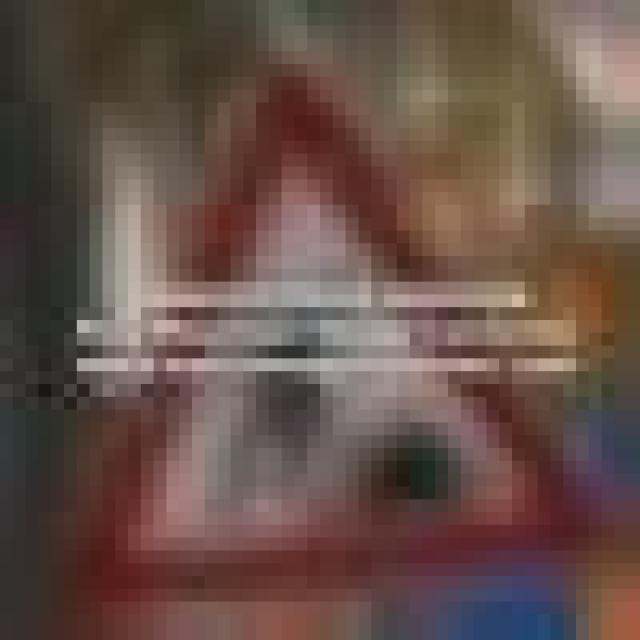road_work: (38, 51, 589, 589)
